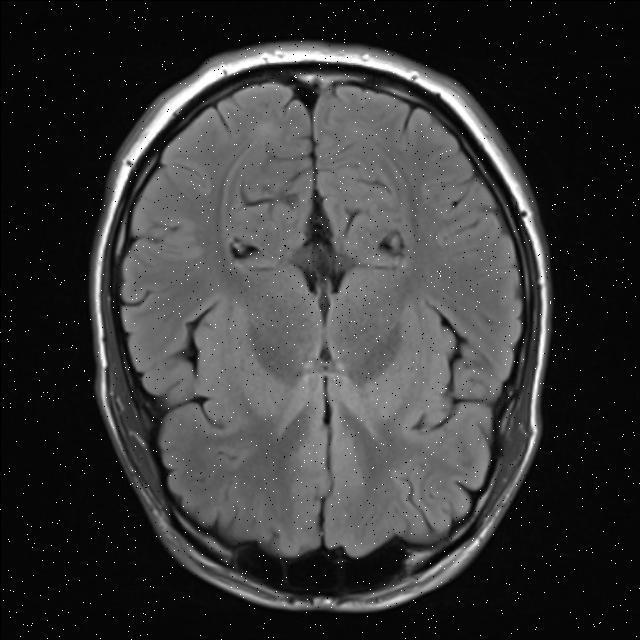No_Tumor: (90, 44, 551, 610)
